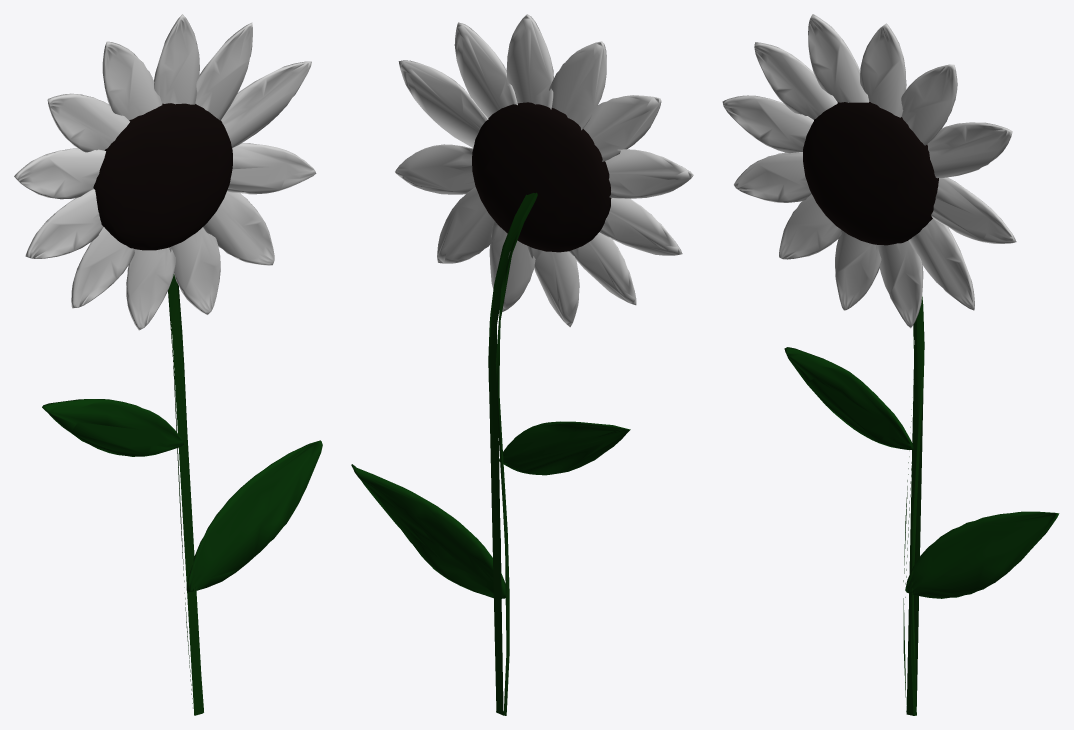
File: sunflower.obj
3 renders of one model, left to right at view 1: azimuth 30°, elevation 25°; view 2: azimuth 150°, elevation 25°; view 3: azimuth 330°, elevation 25°, orthographic. The views are drawn at different scales.
Visible parts, largest first — view 1: BezierCurve.001; view 2: BezierCurve.001; view 3: BezierCurve.001.
Boxes of the visible parts, <box> form: BezierCurve.001: <box>14,14,322,715</box>; BezierCurve.001: <box>351,14,693,715</box>; BezierCurve.001: <box>722,14,1059,715</box>.
Size of the model in its own units: 6.24 by 12.97 by 1.
